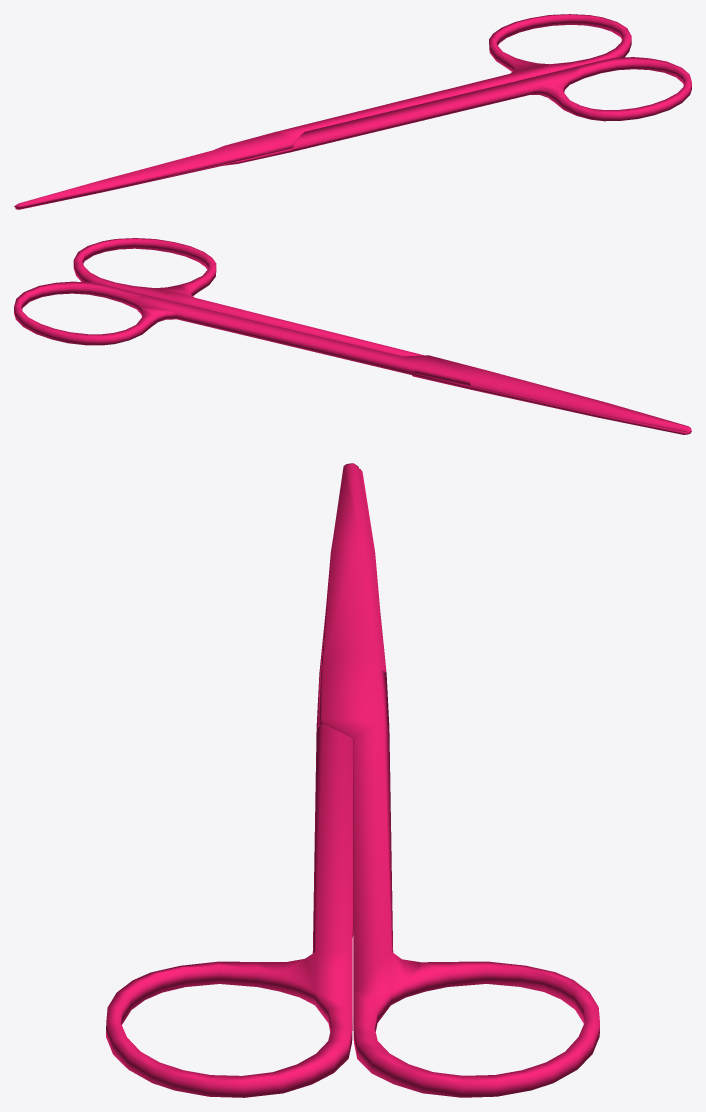
The model's file is SM_Morgue_Scissors_3.FBX.
The picture shows the model from 3 angles, top to bottom: view 1: azimuth 30°, elevation 25°; view 2: azimuth 150°, elevation 25°; view 3: azimuth 270°, elevation 25°; orthographic projection. The views are drawn at different scales.
Visible parts, largest first — view 1: Morgue_Scissors_3_element_1, Morgue_Scissors_3_element_2; view 2: Morgue_Scissors_3_element_1, Morgue_Scissors_3_element_2; view 3: Morgue_Scissors_3_element_1, Morgue_Scissors_3_element_2.
Boxes of the visible parts, x1,y1,x2,y2 form: Morgue_Scissors_3_element_1: [14, 14, 631, 208]; Morgue_Scissors_3_element_2: [15, 57, 691, 209]; Morgue_Scissors_3_element_1: [14, 281, 691, 432]; Morgue_Scissors_3_element_2: [73, 238, 691, 434]; Morgue_Scissors_3_element_1: [318, 463, 599, 1097]; Morgue_Scissors_3_element_2: [106, 468, 379, 1097].
Bounding box in the file's own units: 18.38 × 0.2841 × 6.15.
